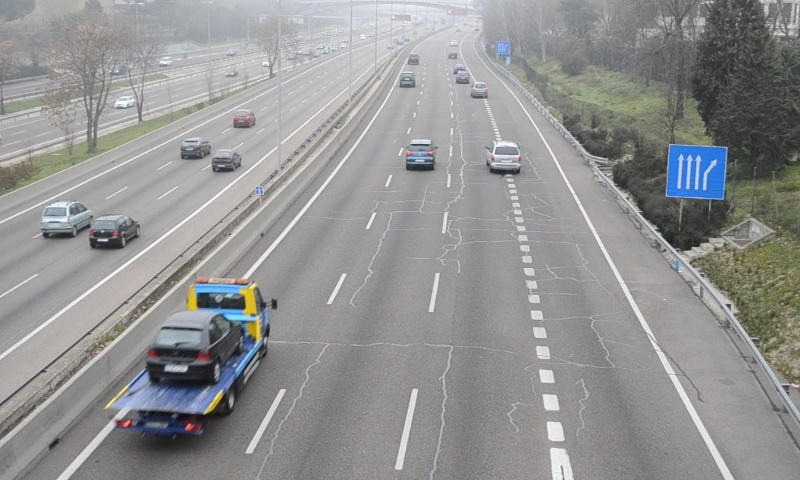car: (486, 140, 521, 172), (404, 139, 435, 169), (470, 81, 488, 98), (398, 72, 416, 88)
small-truck: (104, 275, 270, 432)
